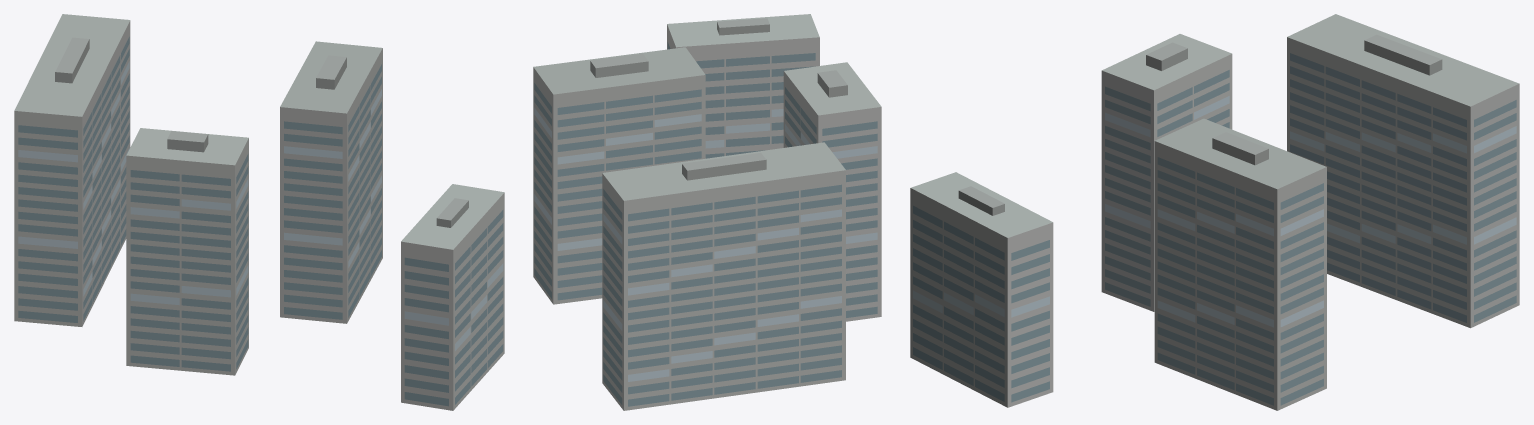
File: apt-a15786510.glb
The picture shows the model from 3 angles, left to right: view 1: azimuth 30°, elevation 25°; view 2: azimuth 150°, elevation 25°; view 3: azimuth 270°, elevation 25°; orthographic projection. The views are drawn at different scales.
Visible parts, largest first — view 1: apt-a15786510; view 2: apt-a15786510; view 3: apt-a15786510.
Boxes of the visible parts, x1=… form: apt-a15786510: x1=14, y1=14, x2=504, y2=410; apt-a15786510: x1=533, y1=14, x2=881, y2=410; apt-a15786510: x1=910, y1=14, x2=1519, y2=410.
Size of the model in its own units: 76.14 by 47 by 112.
